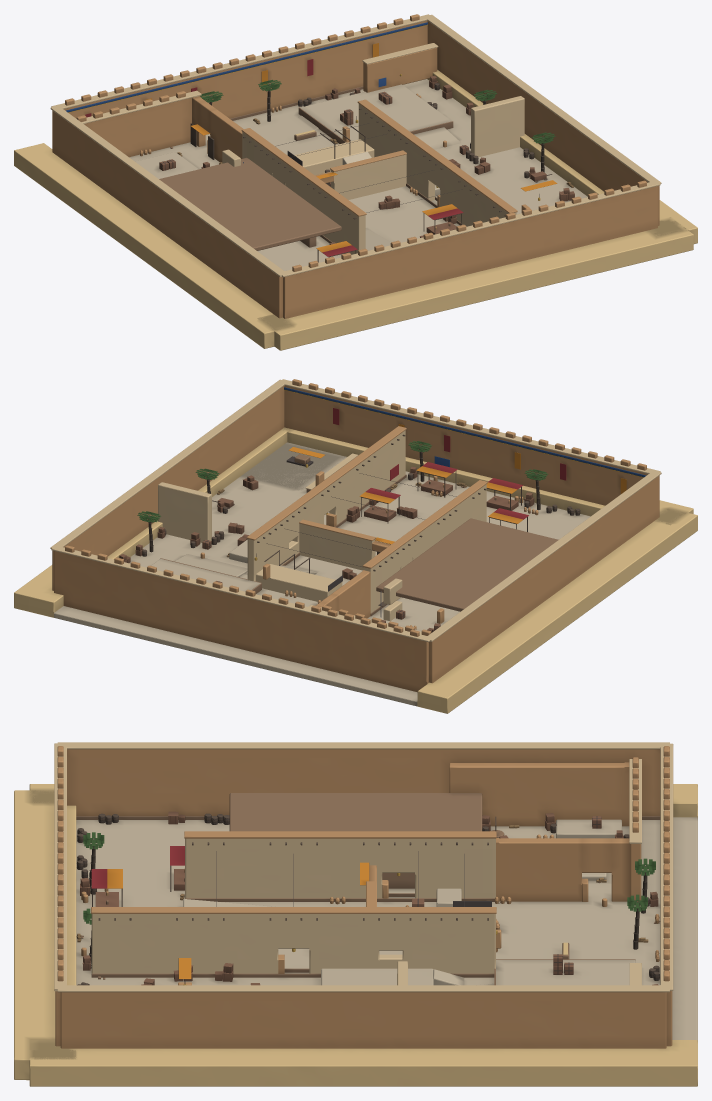
The model's file is hd_dust2.glb.
The picture shows the model from 3 angles, top to bottom: view 1: azimuth 30°, elevation 25°; view 2: azimuth 150°, elevation 25°; view 3: azimuth 270°, elevation 25°; orthographic projection. The views are drawn at different scales.
Visible parts, largest first — view 1: Wall_Perimeter_South, Terrain_Ground, Dune_Perimeter_South, Dune_Perimeter_West, Wall_Perimeter_West, Wall_Perimeter_North, Tunnel_Roof_Slab, Wall_Perimeter_East, SiteB_North_Wall, SiteA_Plateau, Wall_LongA_Corner, Dune_Perimeter_East (+21 smaller); view 2: Terrain_Ground, Wall_Perimeter_North, Wall_Perimeter_South, Dune_Perimeter_West, Wall_Perimeter_West, Tunnel_Roof_Slab, Wall_Perimeter_East, Dune_Perimeter_East, Dune_Perimeter_South, Wall_LongA_West_S0, Wall_LongA_Corner, Wall_MidDoors_East (+17 smaller); view 3: Wall_Perimeter_East, Terrain_Ground, Dune_Perimeter_East, Wall_Perimeter_West, Dune_Perimeter_South, Wall_Mid_West_S0, Wall_LongA_West_S0, Tunnel_Roof_Slab, SiteB_West_Wall, SiteB_East_Wall_S0, Wall_LongA_West_S2, Cornice_Perimeter_E_NonCol (+21 smaller).
Boxes of the visible parts, bbox=[...] form: Wall_Perimeter_South: bbox=[283, 186, 657, 318]; Terrain_Ground: bbox=[129, 79, 587, 270]; Dune_Perimeter_South: bbox=[257, 217, 693, 350]; Dune_Perimeter_West: bbox=[14, 143, 293, 348]; Wall_Perimeter_West: bbox=[52, 110, 282, 318]; Wall_Perimeter_North: bbox=[64, 20, 427, 118]; Tunnel_Roof_Slab: bbox=[159, 157, 341, 250]; Wall_Perimeter_East: bbox=[427, 21, 659, 225]; SiteB_North_Wall: bbox=[84, 96, 200, 157]; SiteA_Plateau: bbox=[300, 84, 451, 141]; Wall_LongA_Corner: bbox=[471, 96, 524, 157]; Dune_Perimeter_East: bbox=[427, 70, 697, 243]; Terrain_Ground: bbox=[54, 442, 590, 706]; Wall_Perimeter_North: bbox=[54, 551, 428, 692]; Wall_Perimeter_South: bbox=[284, 385, 647, 505]; Dune_Perimeter_West: bbox=[417, 508, 697, 713]; Wall_Perimeter_West: bbox=[429, 475, 659, 683]; Tunnel_Roof_Slab: bbox=[376, 518, 558, 611]; Wall_Perimeter_East: bbox=[52, 386, 284, 590]; Dune_Perimeter_East: bbox=[14, 427, 290, 617]; Dune_Perimeter_South: bbox=[282, 427, 693, 525]; Wall_LongA_West_S0: bbox=[329, 430, 405, 524]; Wall_LongA_Corner: bbox=[158, 482, 211, 542]; Wall_MidDoors_East: bbox=[299, 523, 375, 570]; Wall_Perimeter_East: bbox=[60, 992, 666, 1048]; Terrain_Ground: bbox=[76, 817, 697, 1040]; Dune_Perimeter_East: bbox=[29, 1039, 697, 1086]; Wall_Perimeter_West: bbox=[67, 749, 660, 815]; Dune_Perimeter_South: bbox=[14, 790, 76, 1080]; Wall_Mid_West_S0: bbox=[185, 838, 382, 898]; Wall_LongA_West_S0: bbox=[91, 914, 278, 973]; Tunnel_Roof_Slab: bbox=[229, 793, 482, 831]; SiteB_West_Wall: bbox=[449, 762, 629, 826]; SiteB_East_Wall_S0: bbox=[496, 838, 581, 901]; Wall_LongA_West_S2: bbox=[402, 914, 495, 973]; Cornice_Perimeter_E_NonCol: bbox=[57, 985, 669, 992].
Size of what is drawn, in the model's own units: 258 by 37.5 by 264.
